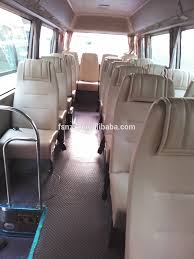seat: (14, 59, 59, 163)
